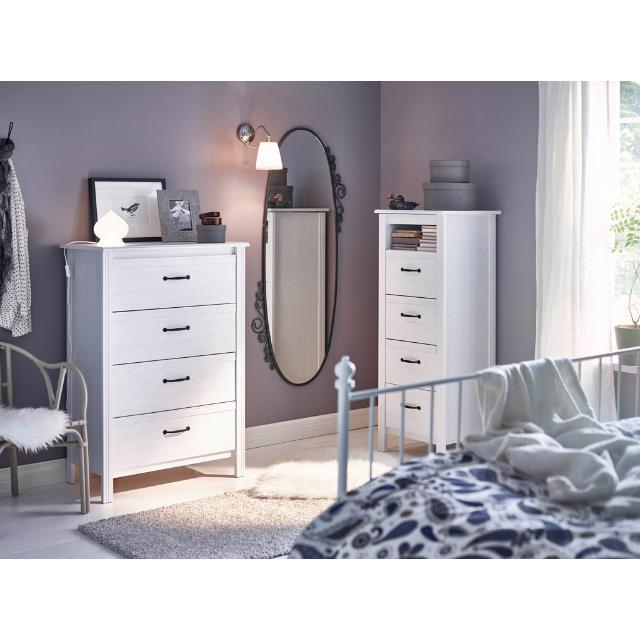bed: (290, 348, 640, 558)
chair: (0, 342, 90, 514)
curtain: (536, 81, 619, 358)
dresser: (66, 242, 248, 502), (376, 210, 500, 387), (432, 386, 458, 451), (404, 387, 430, 442)
plant: (611, 201, 640, 349)
rug: (79, 490, 334, 558), (251, 446, 338, 498), (348, 447, 370, 490), (372, 452, 399, 477)
